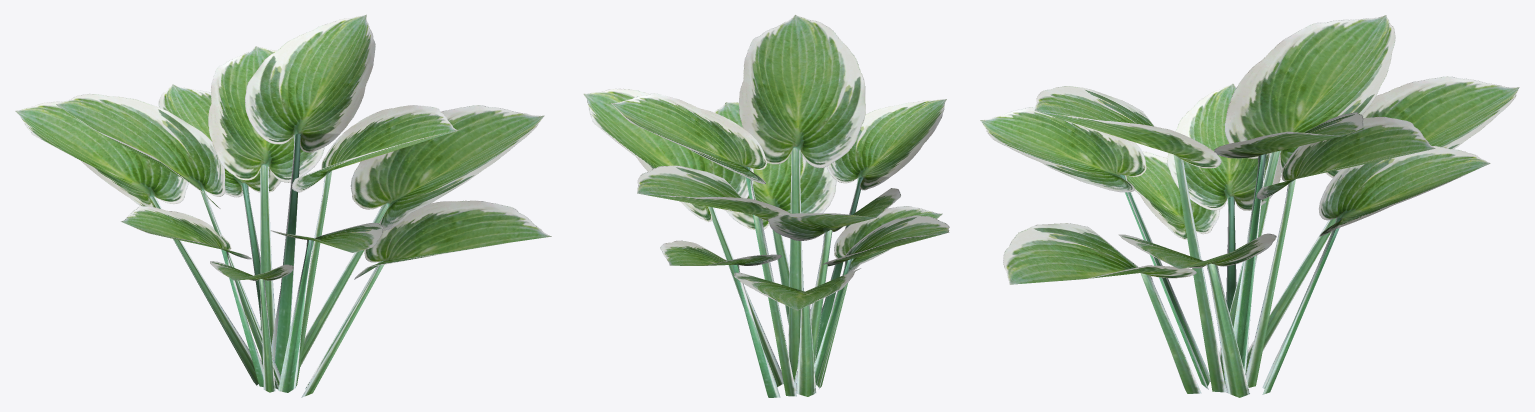
The model's file is plant_small_wg_05Q.fbx.
The picture shows the model from 3 angles, left to right: view 1: azimuth 30°, elevation 25°; view 2: azimuth 150°, elevation 25°; view 3: azimuth 270°, elevation 25°; orthographic projection. The views are drawn at different scales.
Parts seen in each view (by area): view 1: plant_small_wg_05Q; view 2: plant_small_wg_05Q; view 3: plant_small_wg_05Q.
Part boxes in pixels (<box>): plant_small_wg_05Q: <box>15,14,551,397</box>; plant_small_wg_05Q: <box>583,15,949,397</box>; plant_small_wg_05Q: <box>980,15,1519,397</box>.
Bounding box in the file's own units: 55.48 × 39.12 × 58.91.
